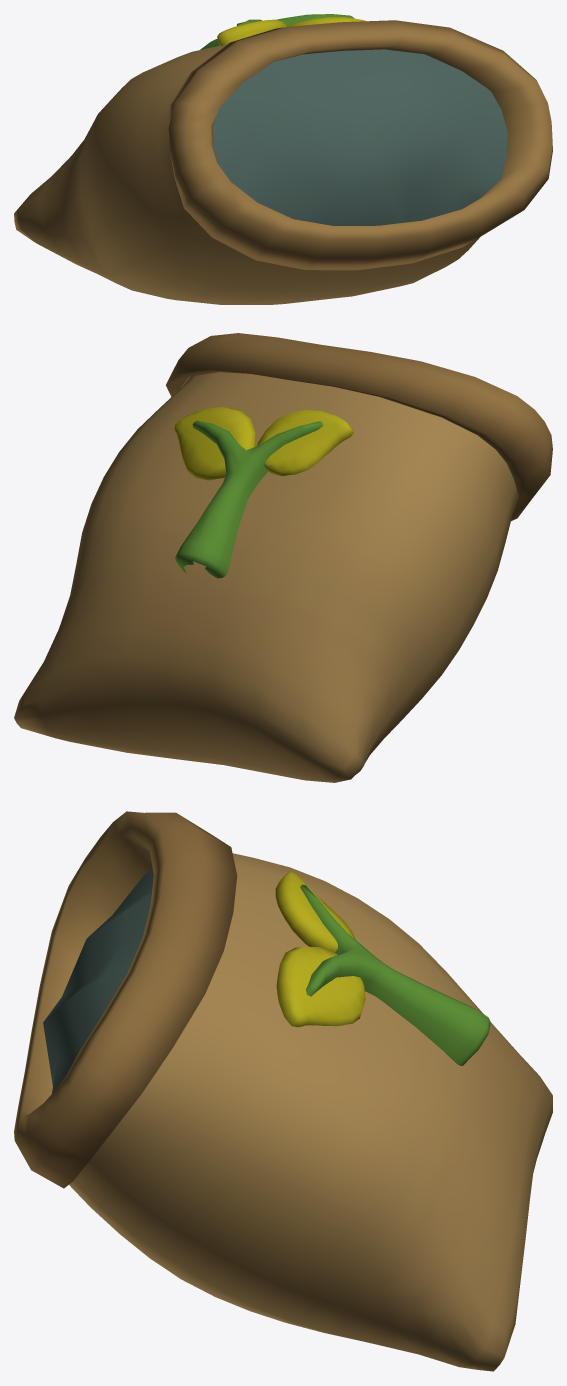
File: Fertilizer-Large-Animated.fbx
The picture shows the model from 3 angles, top to bottom: view 1: azimuth 30°, elevation 25°; view 2: azimuth 150°, elevation 25°; view 3: azimuth 270°, elevation 25°; orthographic projection. The views are drawn at different scales.
Parts seen in each view (by area): view 1: Fertilizer-Large-Animated; view 2: Fertilizer-Large-Animated; view 3: Fertilizer-Large-Animated.
Part boxes in pixels (x1=…): Fertilizer-Large-Animated: x1=14, y1=14, x2=552, y2=304; Fertilizer-Large-Animated: x1=14, y1=333, x2=552, y2=782; Fertilizer-Large-Animated: x1=14, y1=811, x2=552, y2=1371.
Bounding box in the file's own units: 11.41 × 10.15 × 11.96.
1 material, 1 textured.
